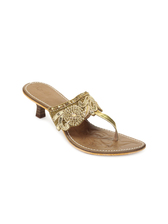shoes: (21, 78, 151, 157)
